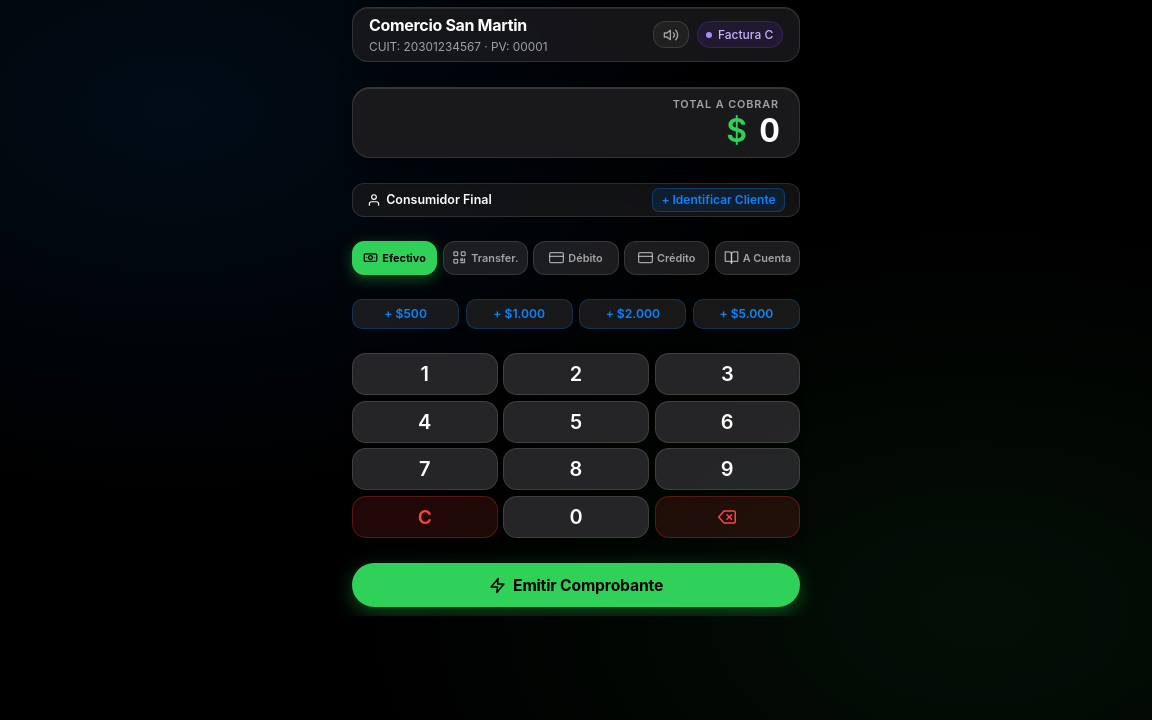
PosTerminal — Integración CRM y Venta A Cuenta (Fiado) › permite abrir el modal de clientes y seleccionar un cliente del CRM
The image size is (1152, 720).
Note: Abrir modal de cliente
Click the button "+ Identificar Cliente": point(718, 200) [652,188,785,212]
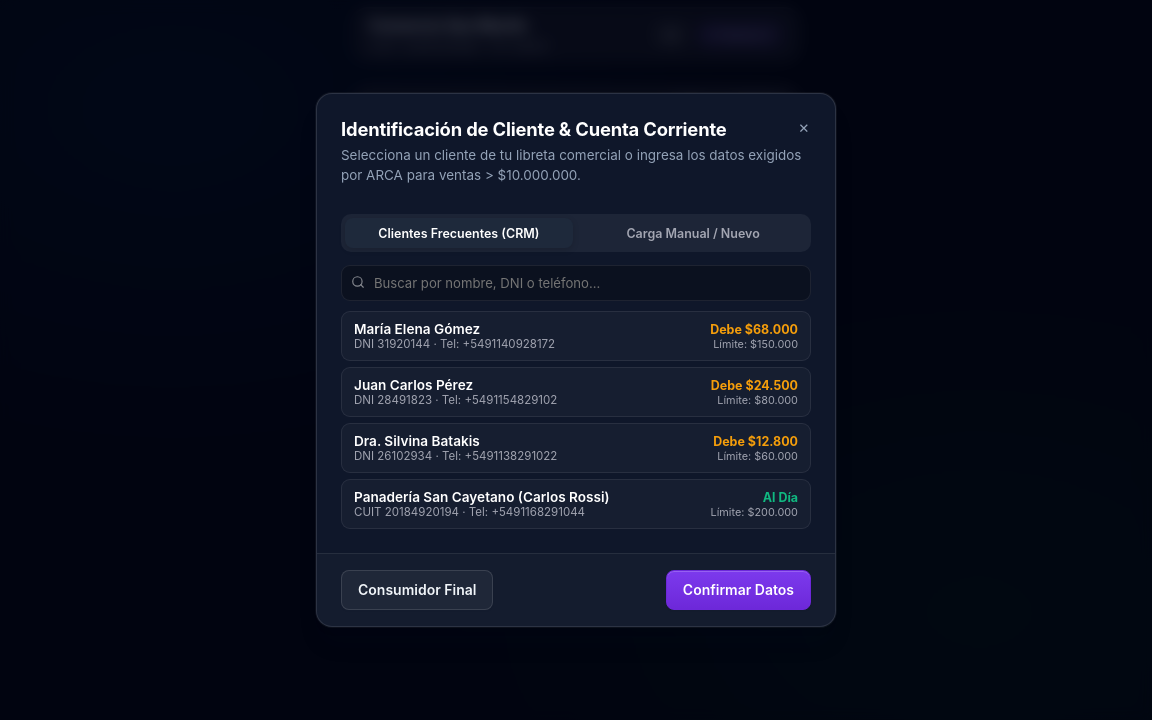
Expected: the heading "Identificación de Cliente & Cuenta Corriente" is shown, [341,118,727,140]
Expected: the button "Clientes Frecuentes (CRM)" is shown, [345,218,573,248]
Note: Seleccionar Juan Carlos Pérez
Click the text "Juan Carlos Pérez": point(414, 385) [354,377,473,393]
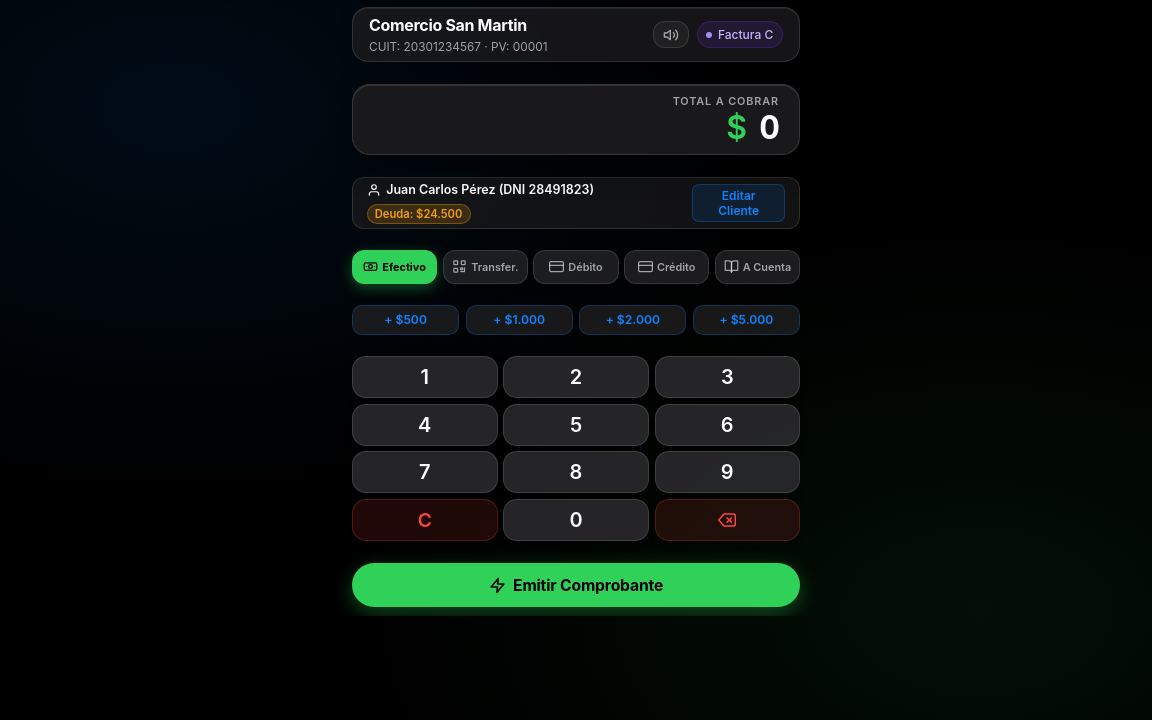
Expected: the text "Juan Carlos Pérez (DNI 28491823)" is shown, [367,182,594,197]
Expected: the text "Deuda: $24.500" is shown, [367,204,471,224]
